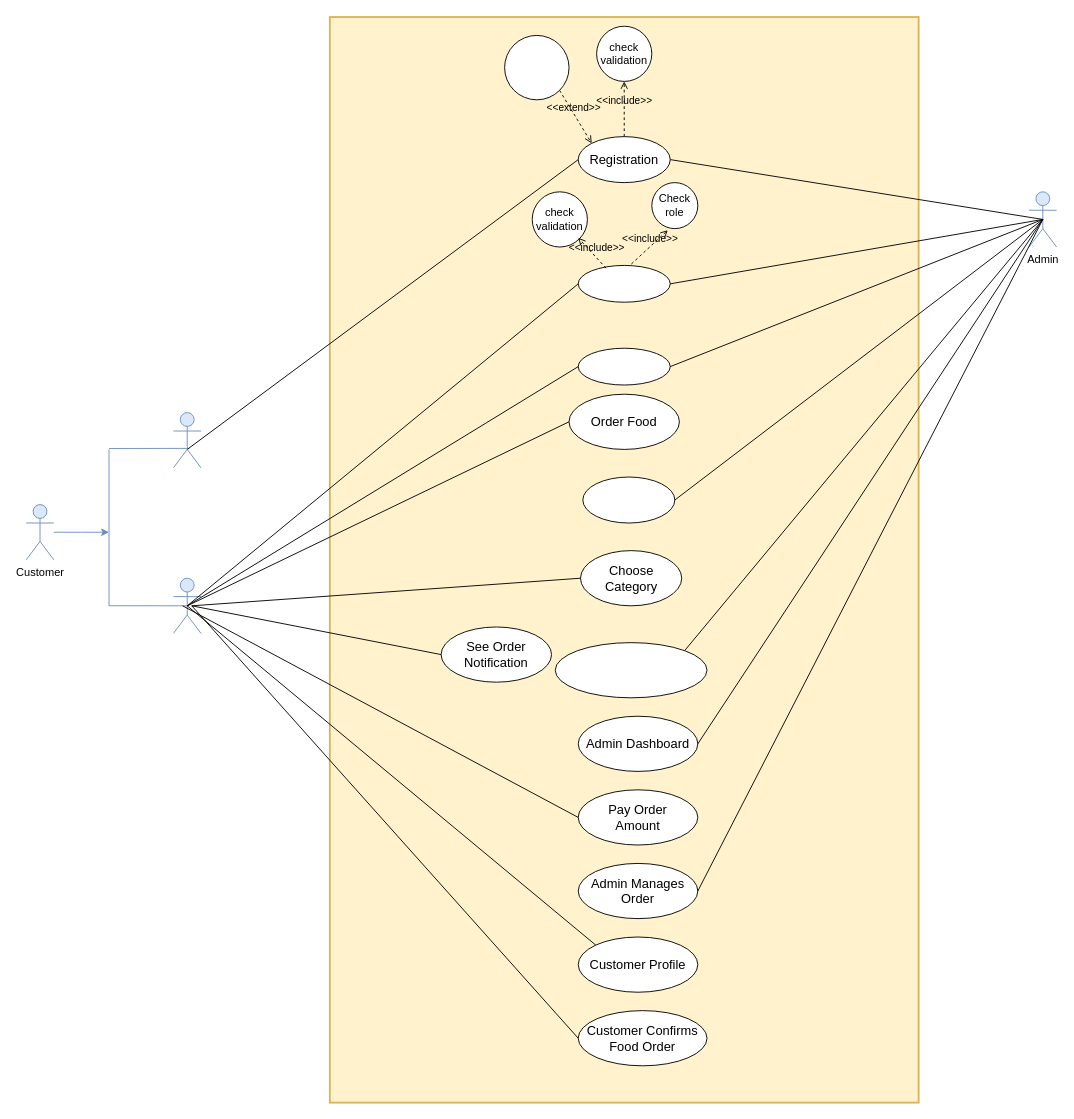
Some shapes in this 1074 by 1119 pixel diagram are drawn without their labels. The centre of each missing label's shape, as x and y in pixels:
Add Food menu: the point at 628,499
Approve Food Order: the point at 630,670
Cancel registration: the point at 536,67
Login: the point at 623,283
Logout: the point at 623,366
Not Registered Customer: the point at 186,440
Registered Customer: the point at 186,605
